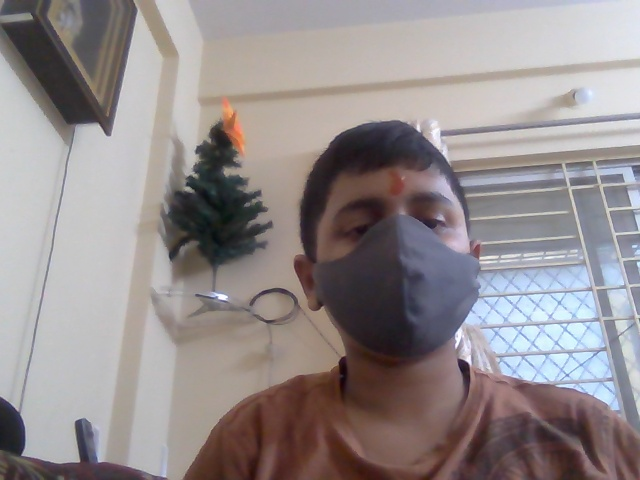Mask: (315, 214, 480, 358)
